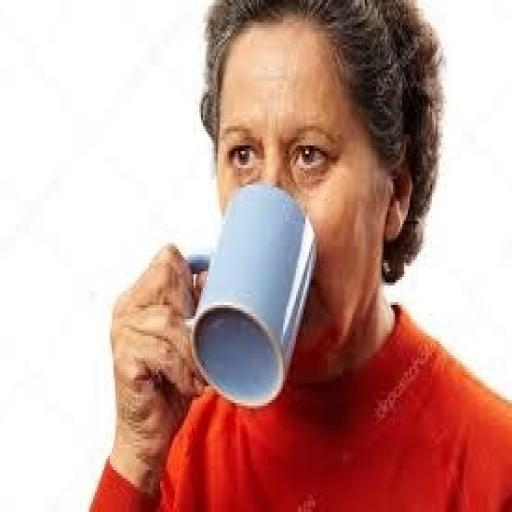drinking: (180, 182, 316, 408)
